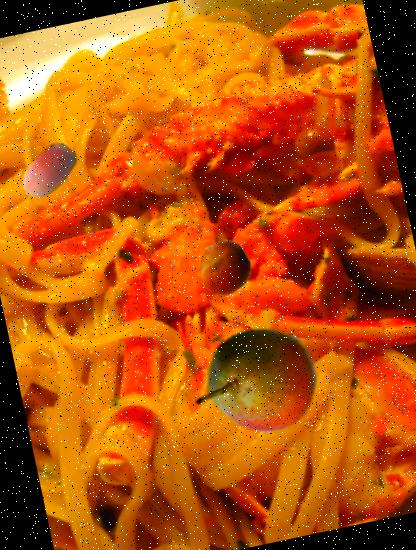Hazelnut: (10, 133, 86, 209)
Nut: (192, 236, 256, 300)
Pear: (186, 310, 331, 456)
